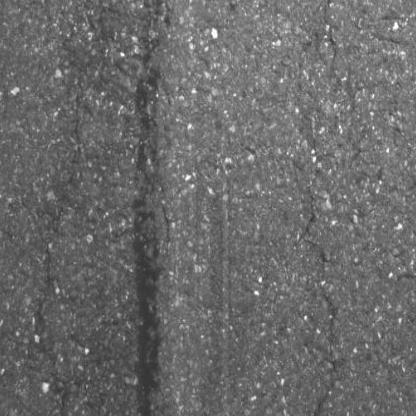Cracks: (292, 135, 343, 416), (30, 249, 73, 416), (49, 102, 88, 233)
